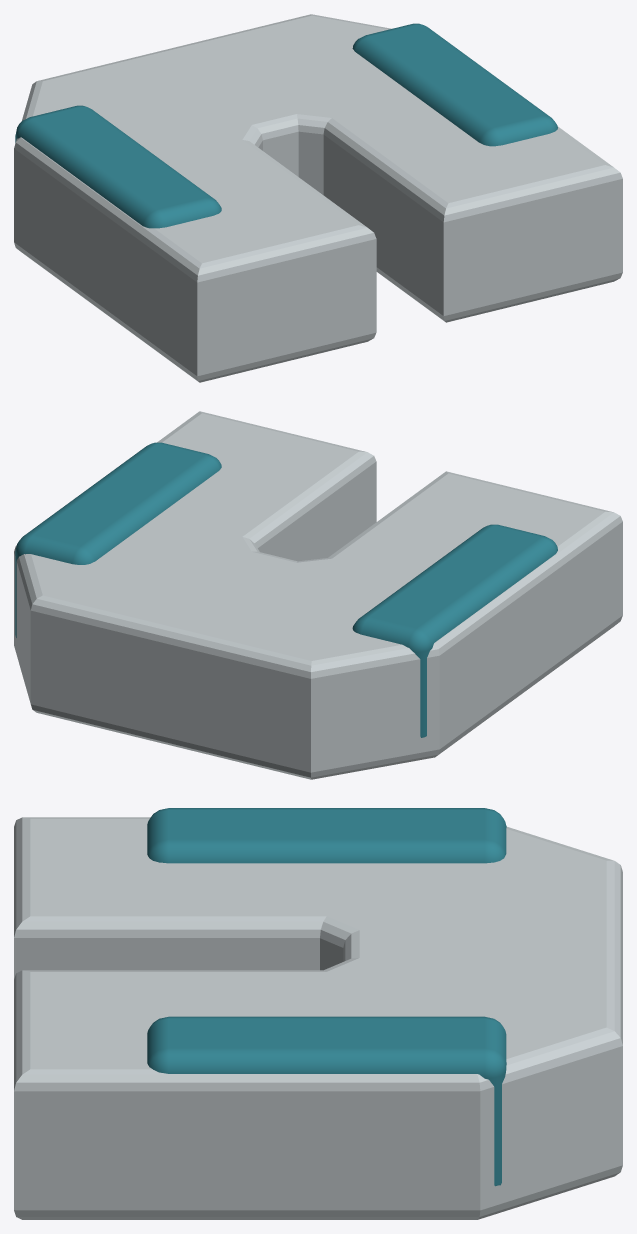
The model's file is bicycle-shop-and-repair-cafe-spoke-wrench-8e84a400__32393.glb.
The picture shows the model from 3 angles, top to bottom: view 1: azimuth 30°, elevation 25°; view 2: azimuth 150°, elevation 25°; view 3: azimuth 270°, elevation 25°; orthographic projection. The views are drawn at different scales.
Visible parts, largest first — view 1: spoke-wrench; view 2: spoke-wrench; view 3: spoke-wrench.
Part boxes in pixels (x1,y1,x2,y2): spoke-wrench: [14, 14, 622, 382]; spoke-wrench: [14, 411, 622, 779]; spoke-wrench: [14, 808, 622, 1219].
Bounding box in the file's own units: 0.038 × 0.011 × 0.037.
